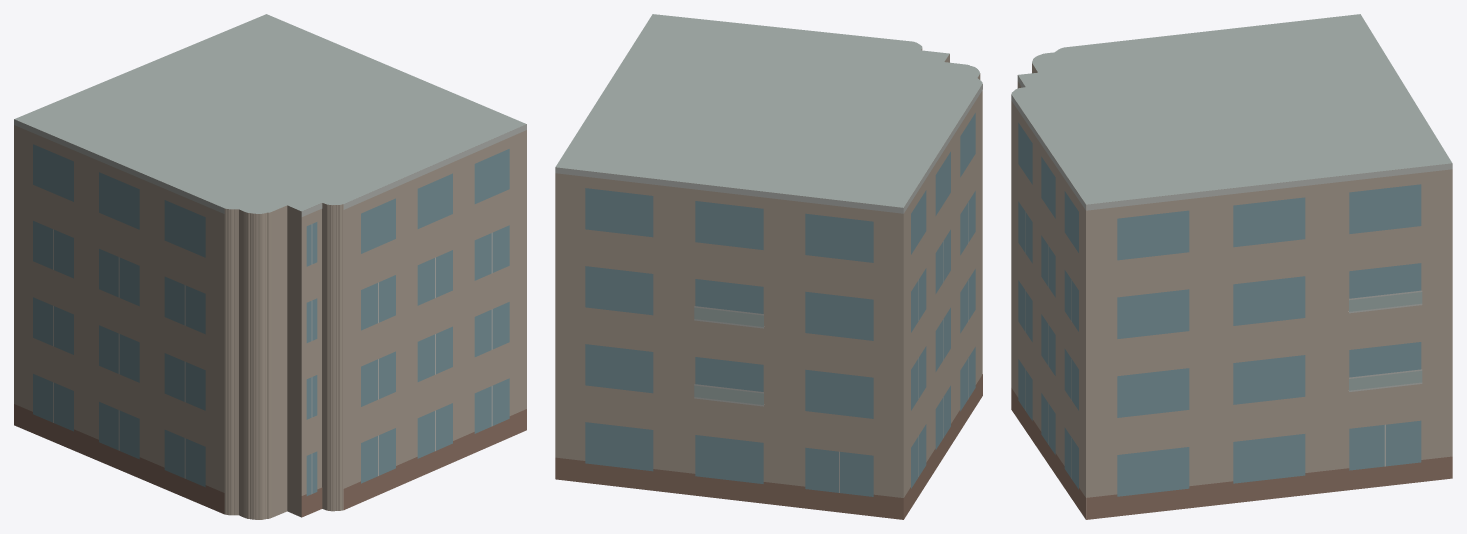
Rendered from survey-upis-32670359.glb.
3 views of the same model, side by side, from view 1: azimuth 30°, elevation 25°; view 2: azimuth 150°, elevation 25°; view 3: azimuth 270°, elevation 25° (orthographic). The views are drawn at different scales.
Visible parts, largest first — view 1: survey-upis-32670359.tmp; view 2: survey-upis-32670359.tmp; view 3: survey-upis-32670359.tmp.
Part boxes in pixels (bbox=[...]): survey-upis-32670359.tmp: bbox=[14, 14, 526, 519]; survey-upis-32670359.tmp: bbox=[555, 14, 982, 519]; survey-upis-32670359.tmp: bbox=[1011, 14, 1452, 519].
Bounding box in the file's own units: 16.66 × 12.84 × 16.29.
